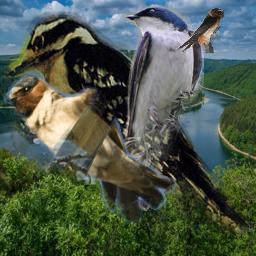Swallow: (4, 73, 177, 225), (115, 4, 204, 211), (176, 8, 224, 53)
Woodpecker: (4, 6, 252, 235)
